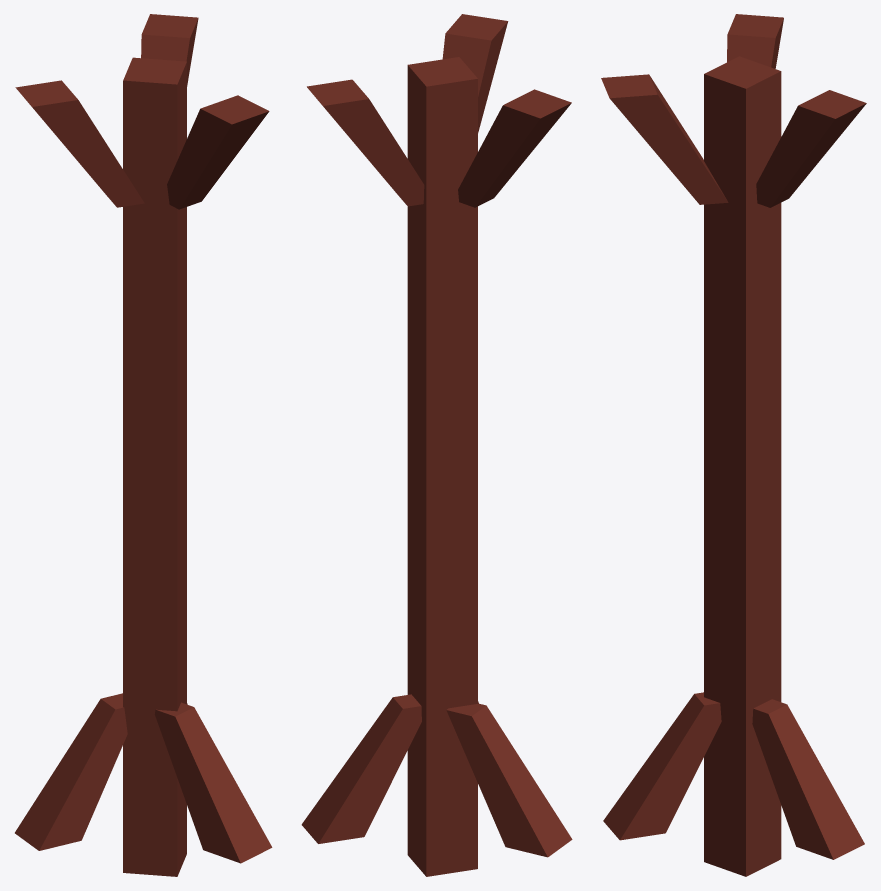
The model's file is Clothing_Hanger.fbx.
3 views of the same model, side by side, from view 1: azimuth 30°, elevation 25°; view 2: azimuth 150°, elevation 25°; view 3: azimuth 270°, elevation 25° (orthographic).
Parts seen in each view (by area): view 1: Clothing Hanger; view 2: Clothing Hanger; view 3: Clothing Hanger.
Part boxes in pixels (box(x1,y1,x2,y2)): Clothing Hanger: box(15, 14, 272, 876); Clothing Hanger: box(301, 14, 572, 876); Clothing Hanger: box(601, 14, 866, 876).
Size of the model in its own units: 164 by 559 by 171.
